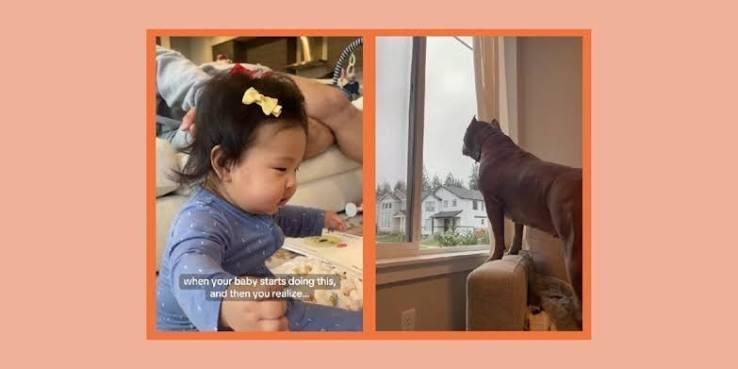adult_dog: (460, 113, 584, 307)
non-dog: (152, 63, 363, 336)
